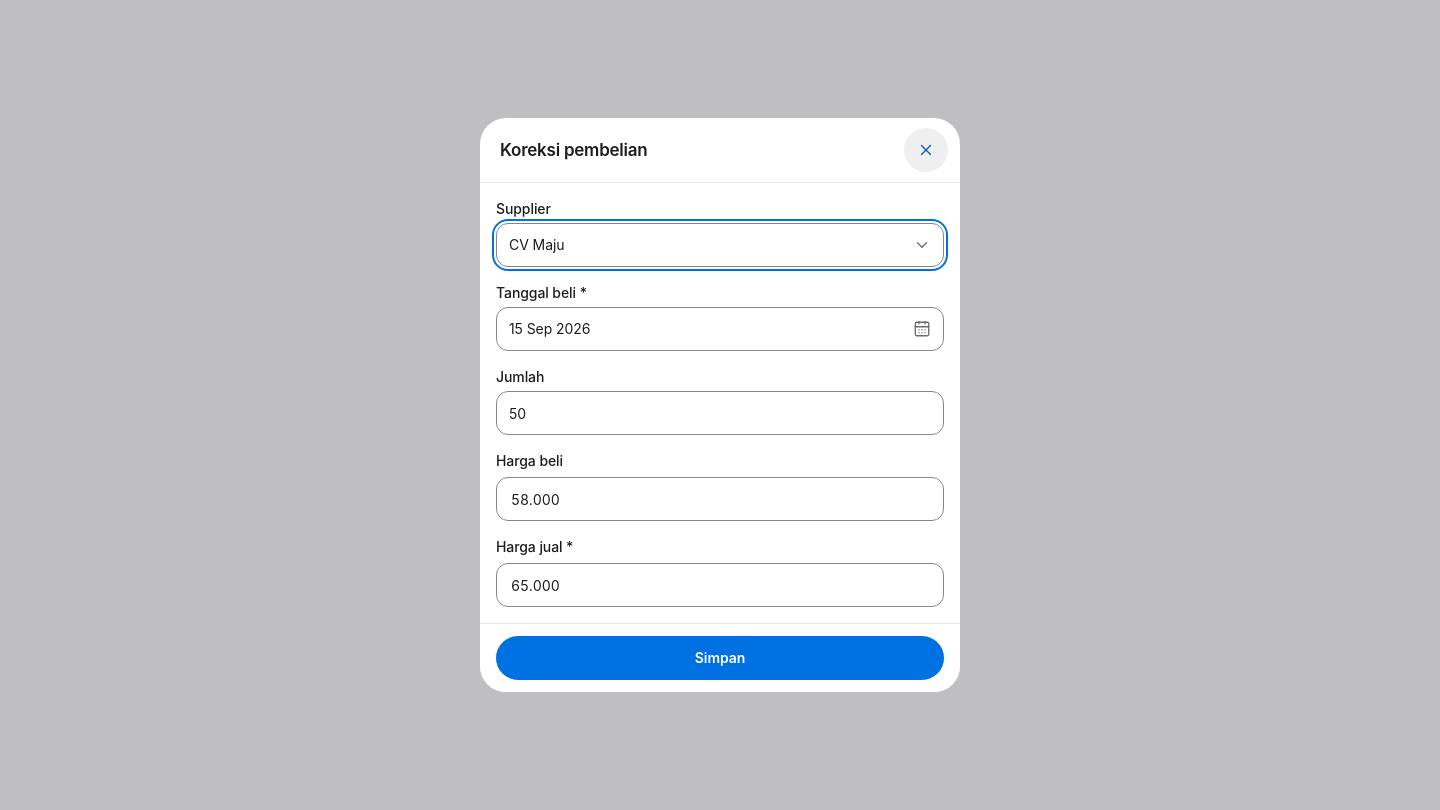
Test case: KoreksiPembelianSheet › offers no day after today for tanggal beli
Step 1. Click the button named "Tanggal beli" → [550, 328], box top-left (496, 307), bottom-right (944, 351)
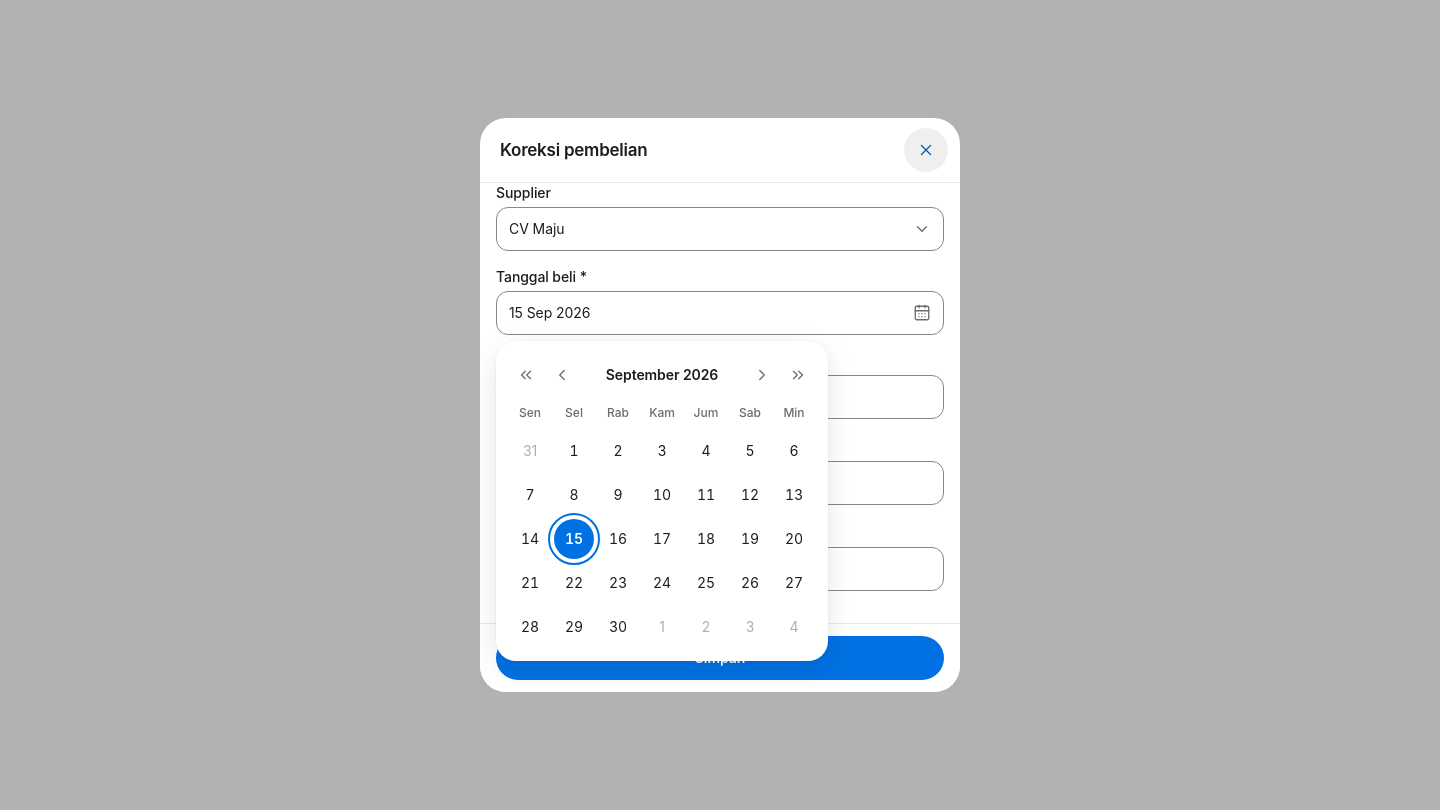
Step 2. Click the button named "Bulan berikutnya" → [762, 375], box top-left (744, 357), bottom-right (780, 393)
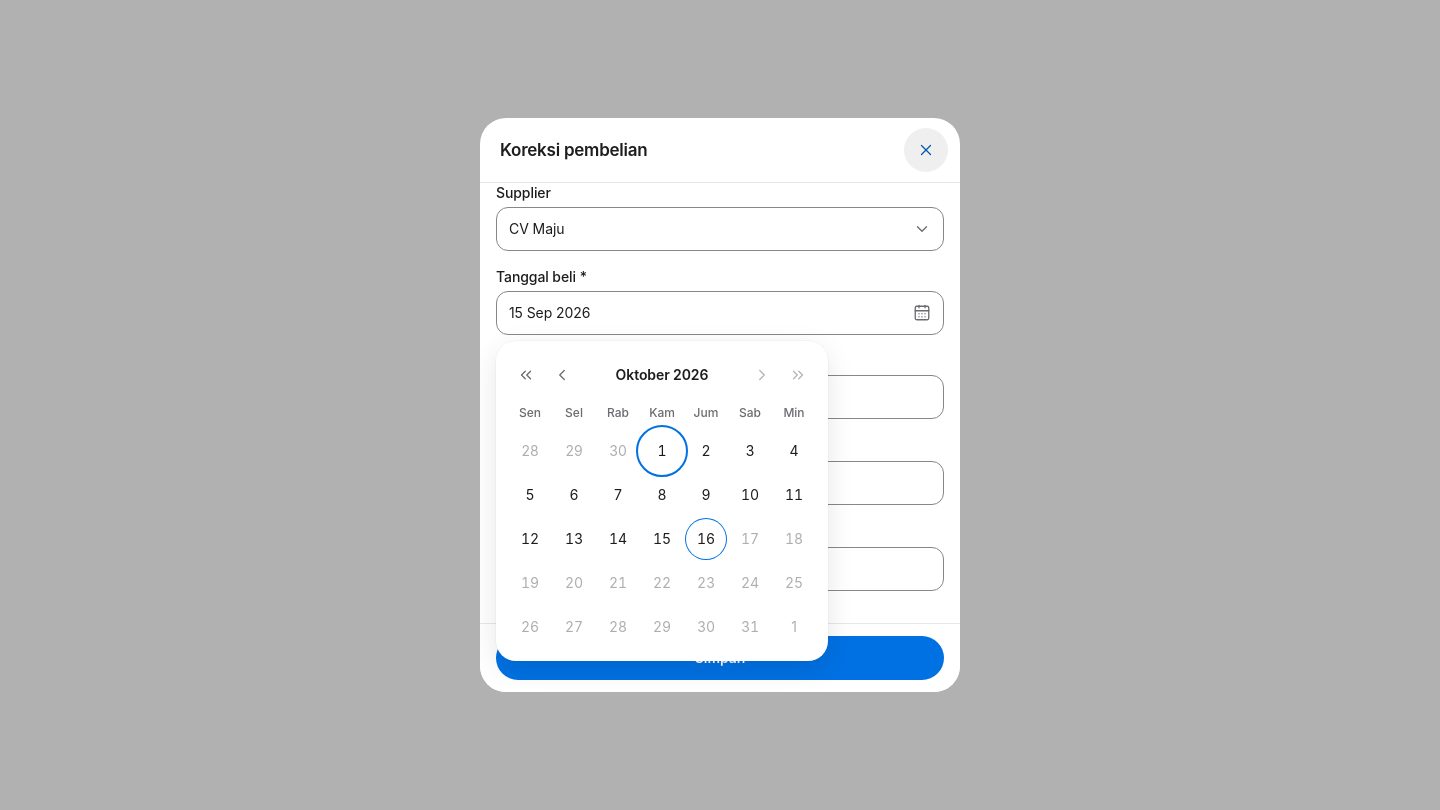
Now the heading "Oktober 2026" is shown, box top-left (616, 365), bottom-right (708, 385)
